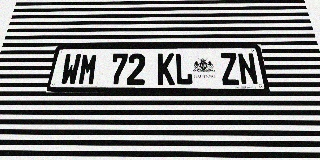2: (127, 53, 145, 85)
7: (109, 53, 128, 85)
K: (157, 53, 175, 85)
L: (175, 53, 193, 85)
M: (77, 54, 99, 85)
N: (237, 53, 259, 85)
W: (59, 54, 82, 85)
Z: (219, 53, 241, 85)
